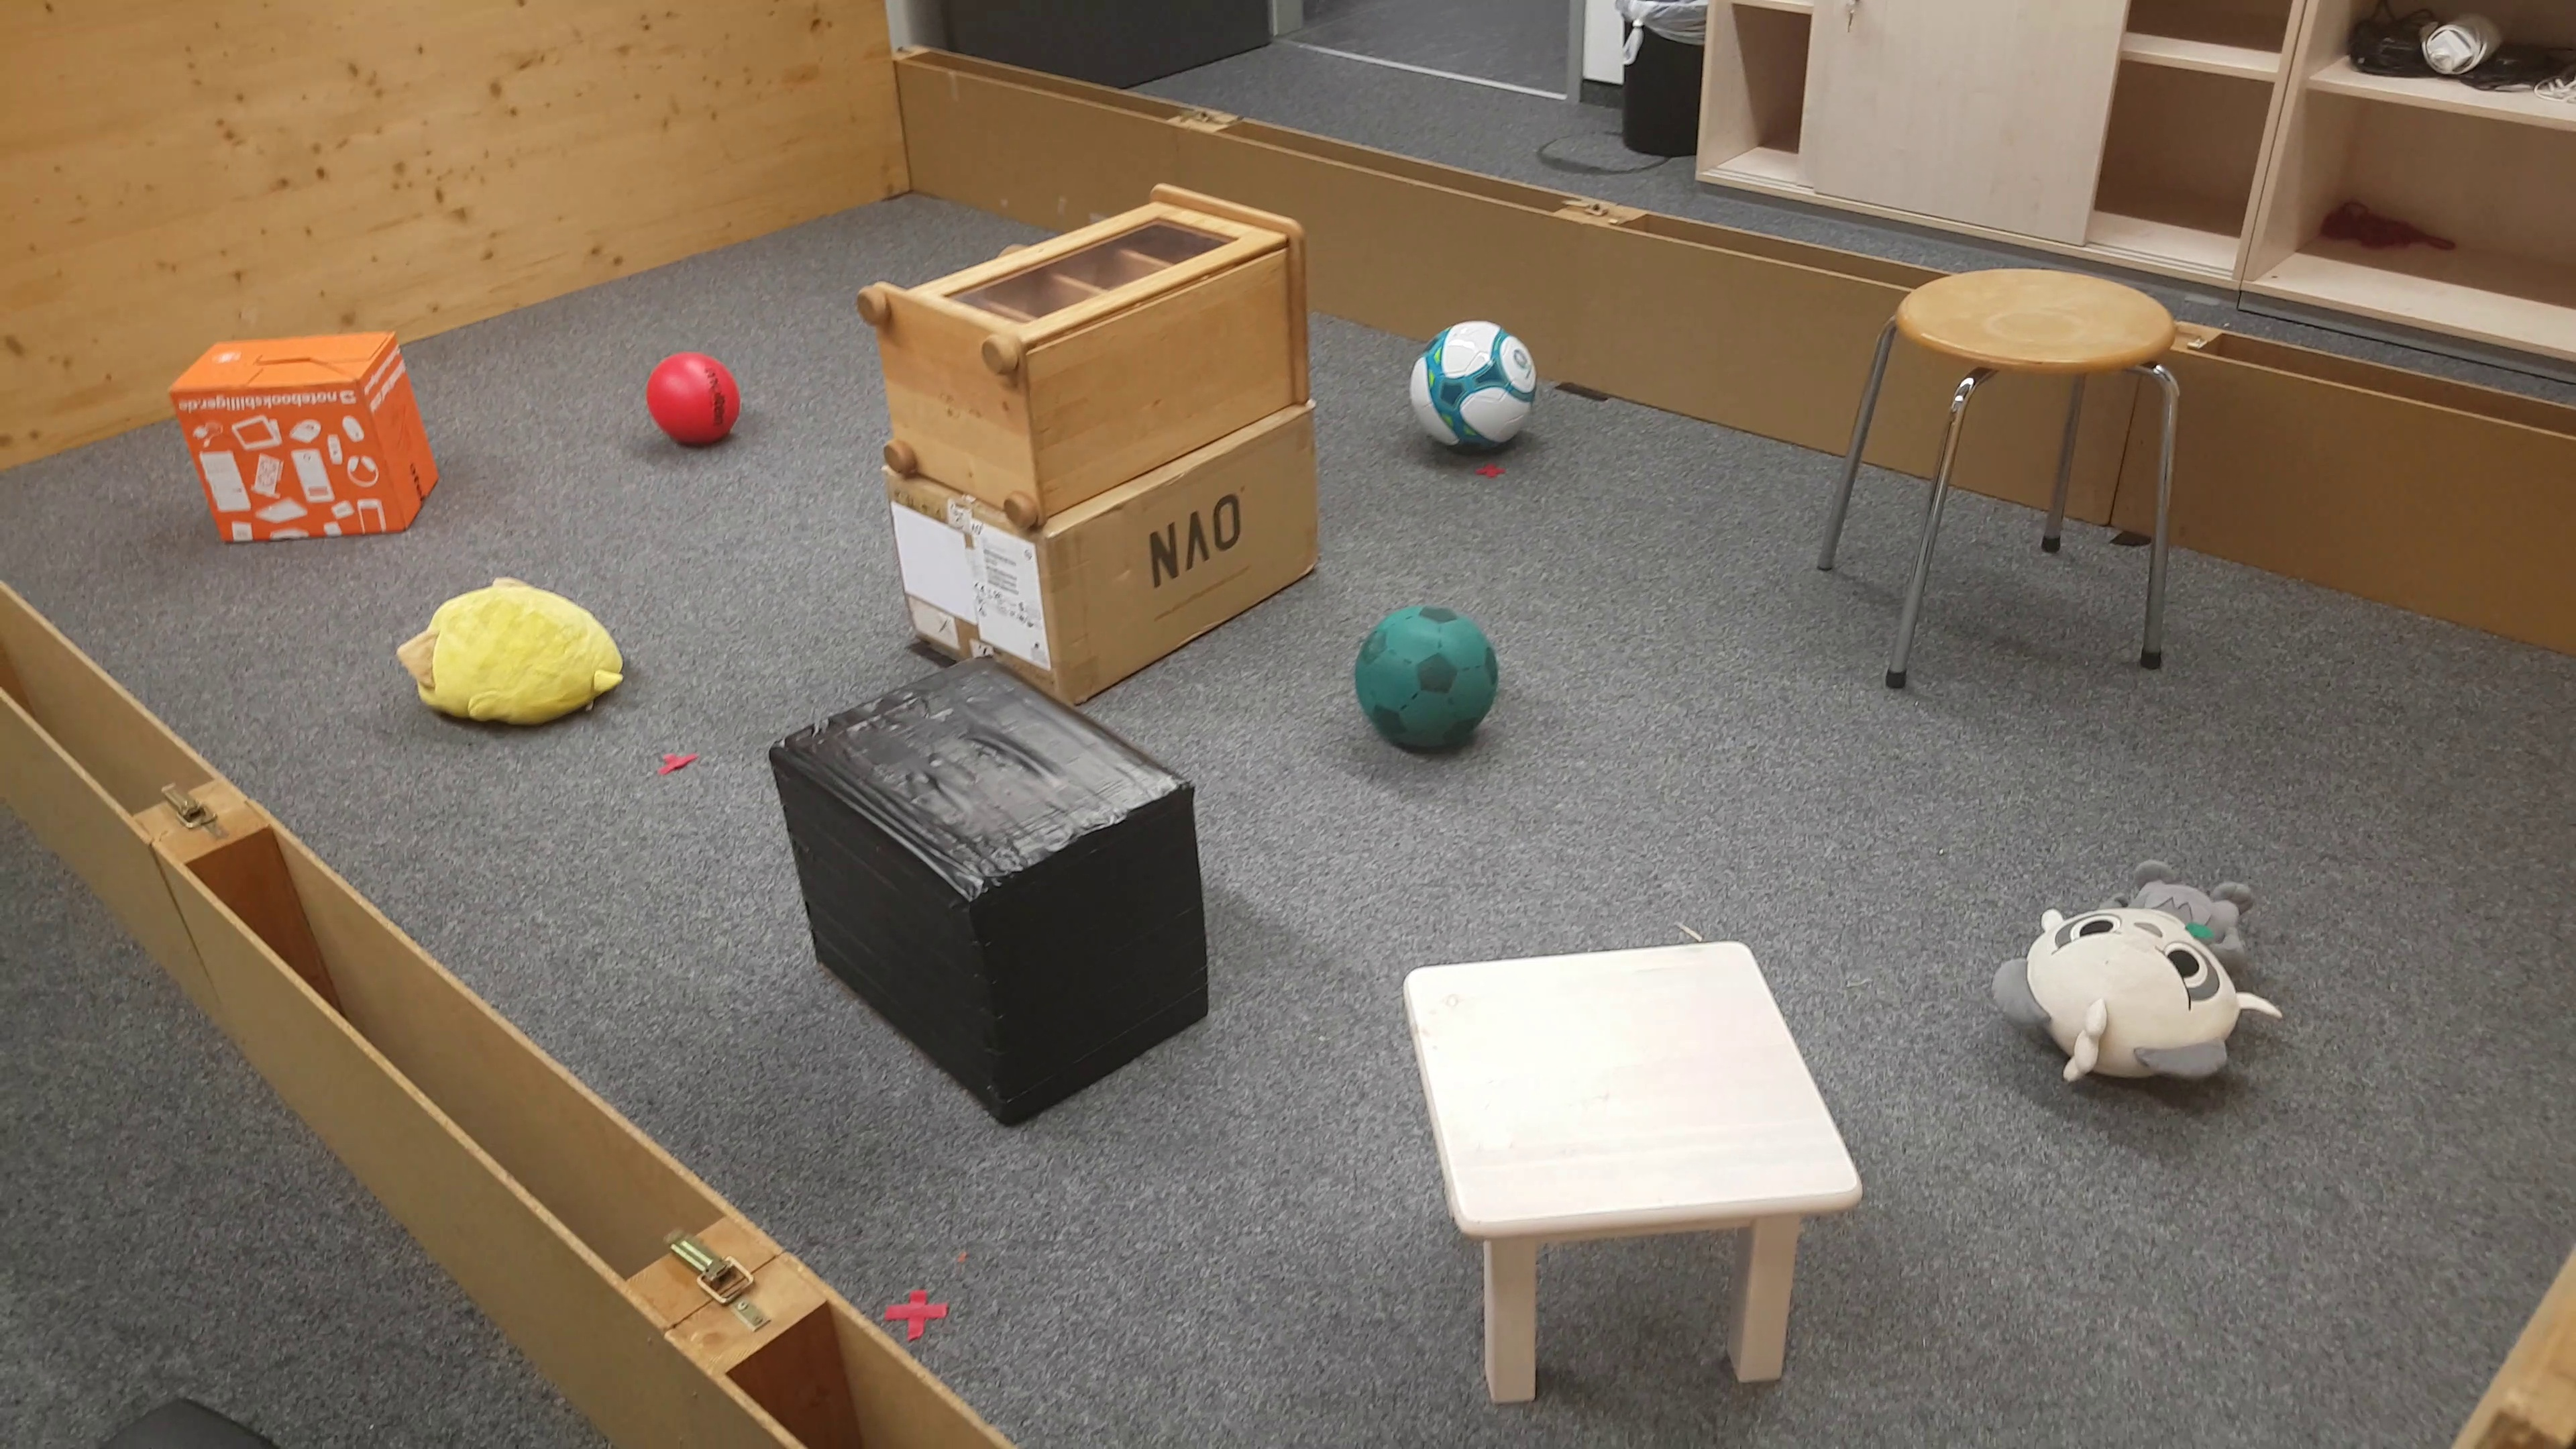grasp: (1992, 853, 2281, 1131), (398, 575, 639, 740)
kick: (1364, 598, 1495, 771), (1415, 310, 1534, 448), (653, 350, 745, 441)
push: (771, 658, 1223, 1134), (173, 329, 444, 557)
